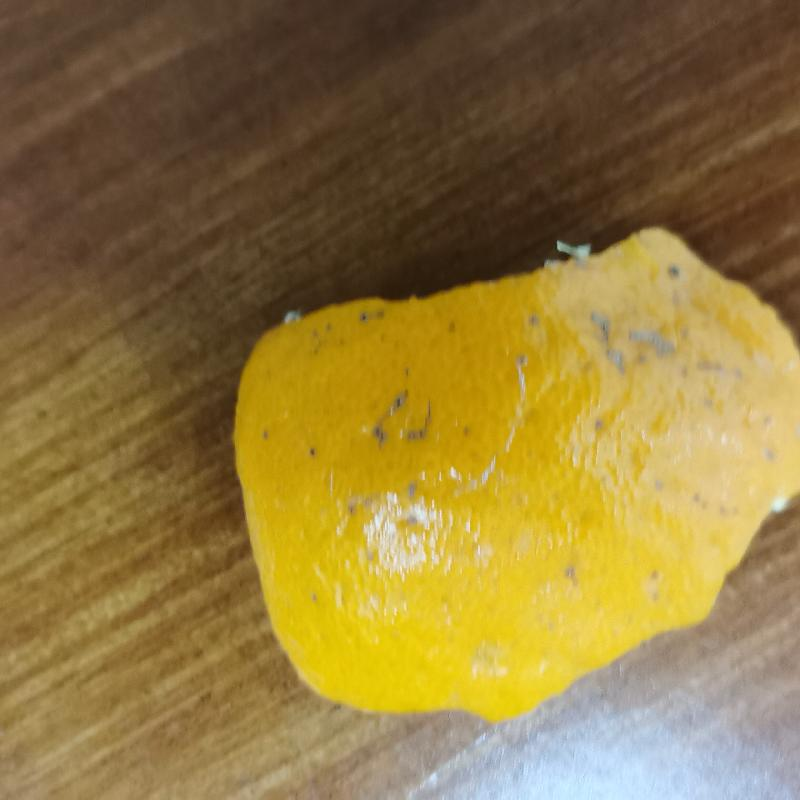orange: (231, 228, 799, 726)
